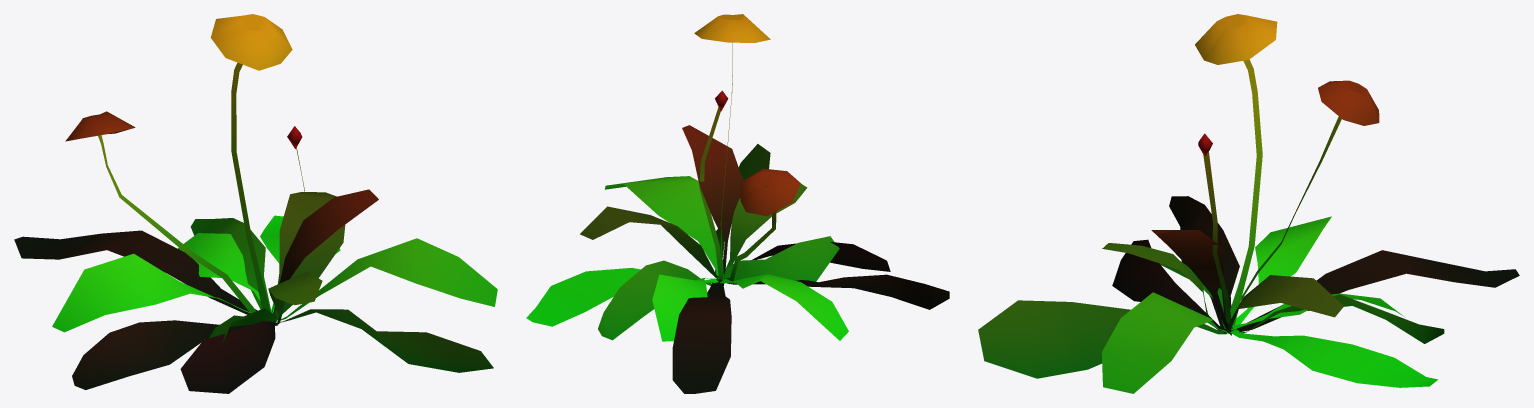
File: SM_OW_Dandelion_a_LOD2.fbx
3 views of the same model, side by side, from view 1: azimuth 30°, elevation 25°; view 2: azimuth 150°, elevation 25°; view 3: azimuth 270°, elevation 25° (orthographic). The views are drawn at different scales.
Visible parts, largest first — view 1: SM_OW_Dandelion_a_LOD2; view 2: SM_OW_Dandelion_a_LOD2; view 3: SM_OW_Dandelion_a_LOD2.
Boxes of the visible parts, x1,y1,x2,y2 form: SM_OW_Dandelion_a_LOD2: (14, 14, 497, 393); SM_OW_Dandelion_a_LOD2: (526, 14, 949, 393); SM_OW_Dandelion_a_LOD2: (978, 14, 1519, 393).
Bounding box in the file's own units: 0.2176 × 0.1591 × 0.2505.
